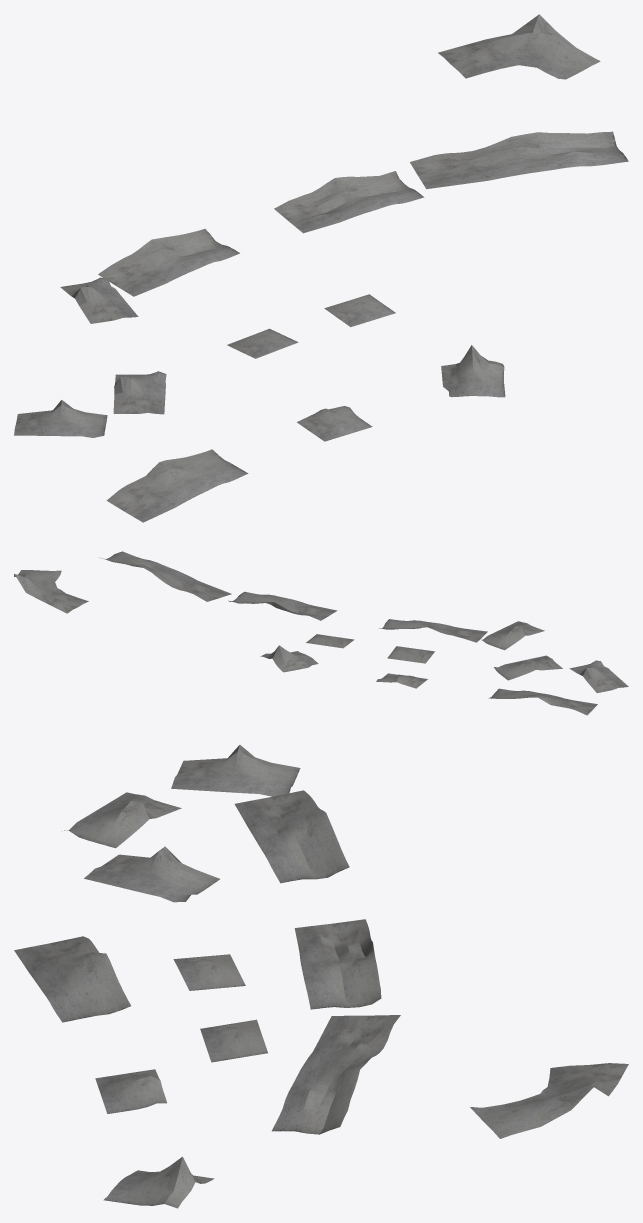
The picture shows the model from 3 angles, top to bottom: view 1: azimuth 30°, elevation 25°; view 2: azimuth 150°, elevation 25°; view 3: azimuth 270°, elevation 25°; orthographic projection. The views are drawn at different scales.
Visible parts, largest first — view 1: Cube.038; view 2: Cube.038; view 3: Cube.038.
Part boxes in pixels (x1,y1,x2,y2): Cube.038: (14, 14, 628, 522); Cube.038: (14, 551, 628, 715); Cube.038: (14, 745, 628, 1208).
Size of the model in its own units: 5794 by 1502 by 3206.
